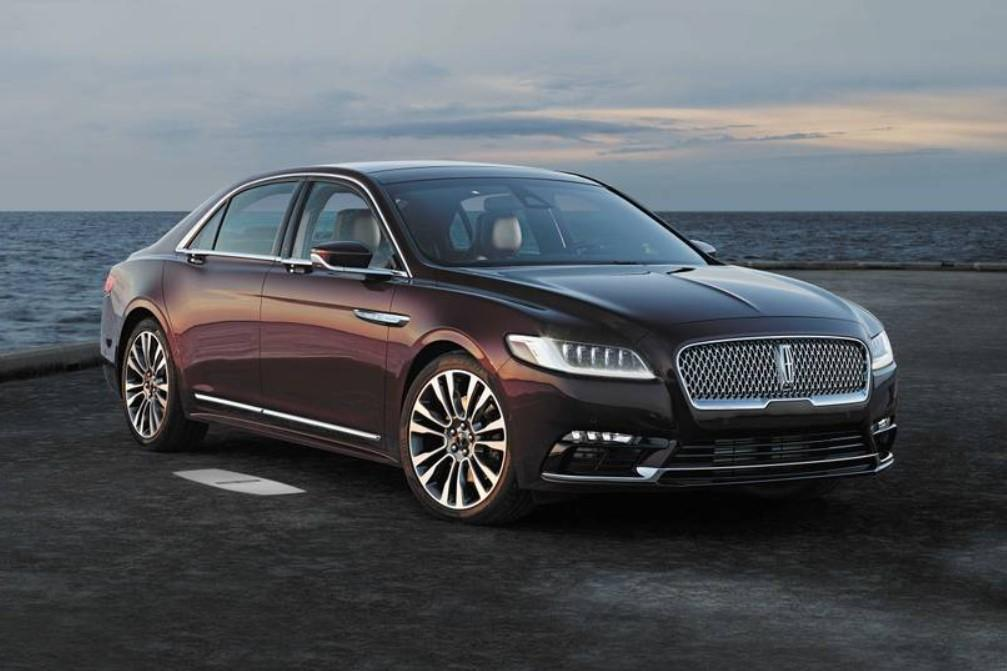lincoln: (772, 336, 798, 392)
